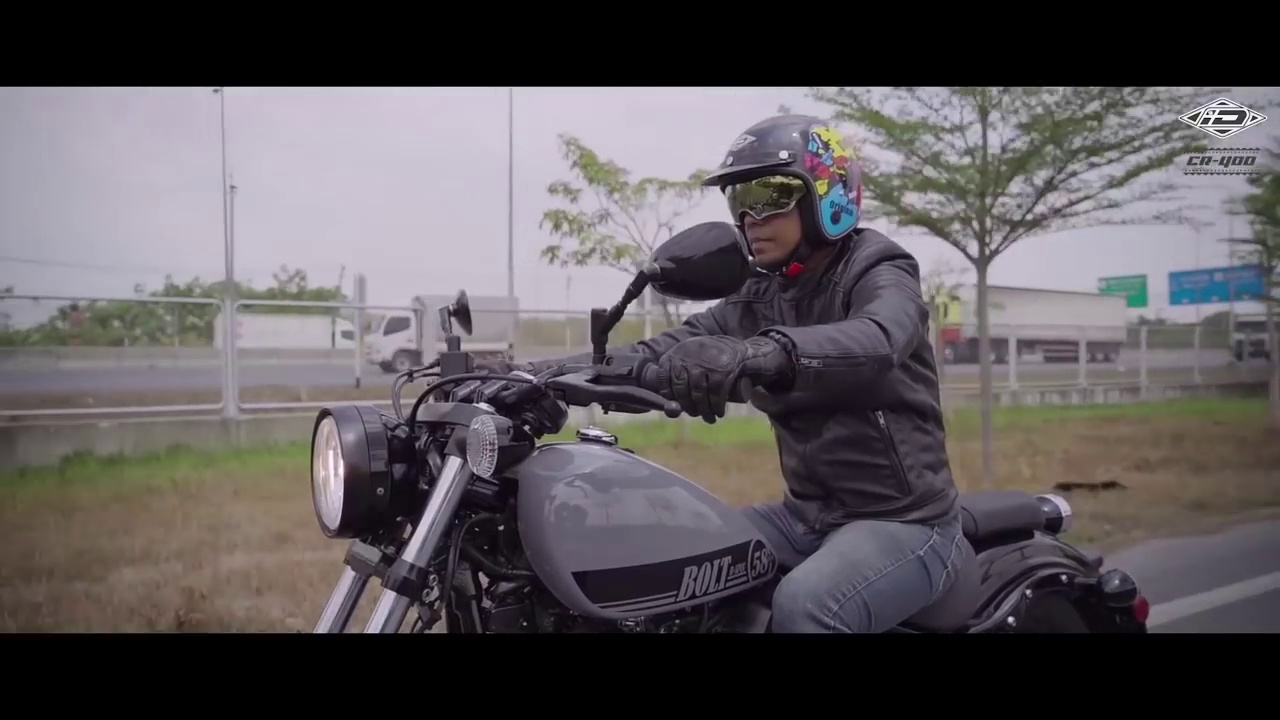helmet: (707, 112, 870, 248)
